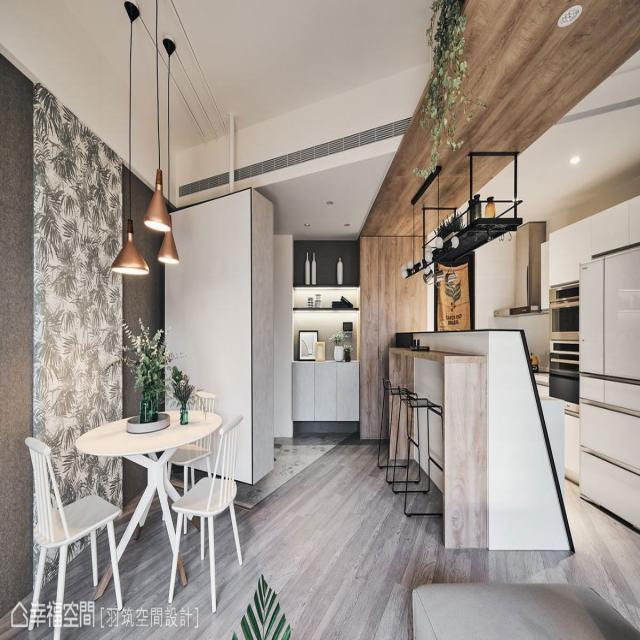table: (20, 389, 246, 615)
